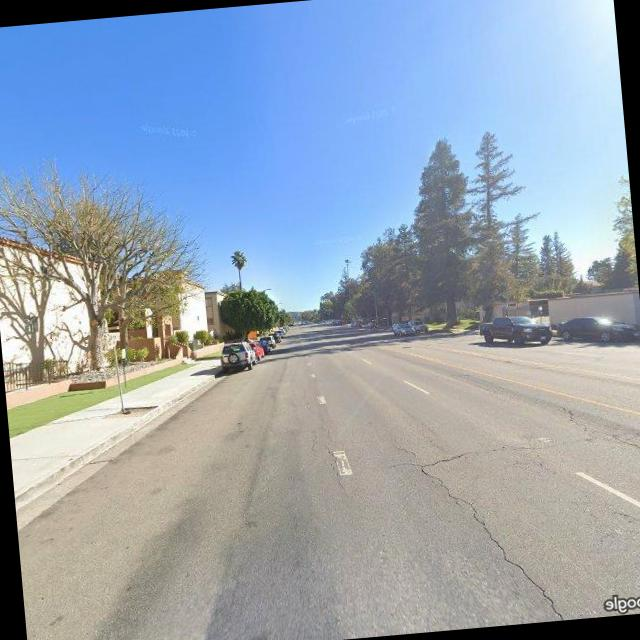pothole: (411, 439, 578, 630), (324, 437, 351, 494), (391, 439, 420, 456)
